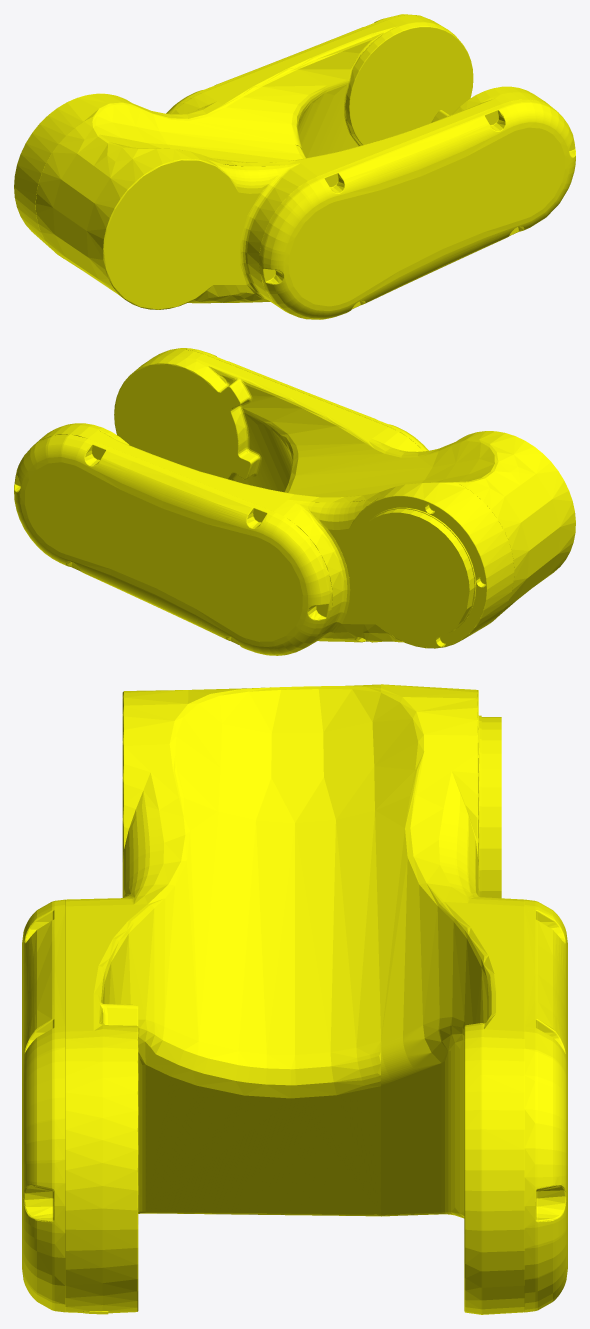
3 renders of one model, top to bottom at view 1: azimuth 30°, elevation 25°; view 2: azimuth 150°, elevation 25°; view 3: azimuth 270°, elevation 25°, orthographic. The views are drawn at different scales.
Visible parts, largest first — view 1: node; view 2: node; view 3: node.
Boxes of the visible parts, left/top/right/bottom form: node: left=14, top=14, right=575, bottom=319; node: left=14, top=348, right=575, bottom=655; node: left=22, top=684, right=567, bottom=1314.
Size of the model in its own units: 370 by 142 by 190.
